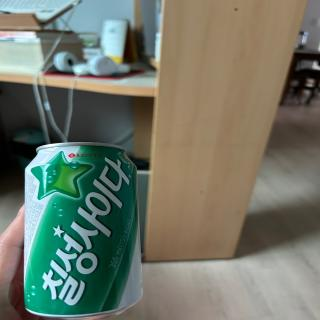cocacola: (23, 140, 146, 320)
